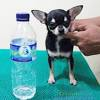Bulldog: (31, 6, 81, 89)
